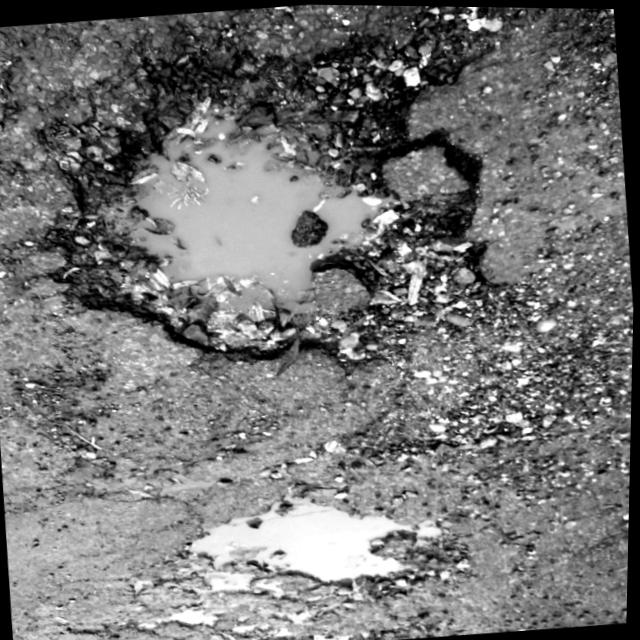pathole: (10, 4, 616, 640)
